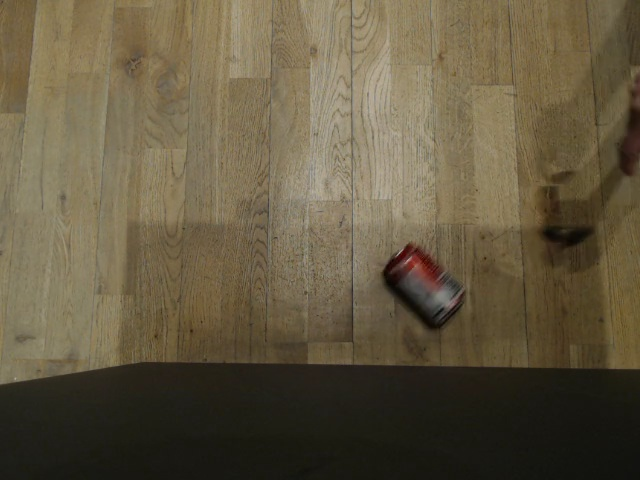coke: (378, 240, 465, 327)
